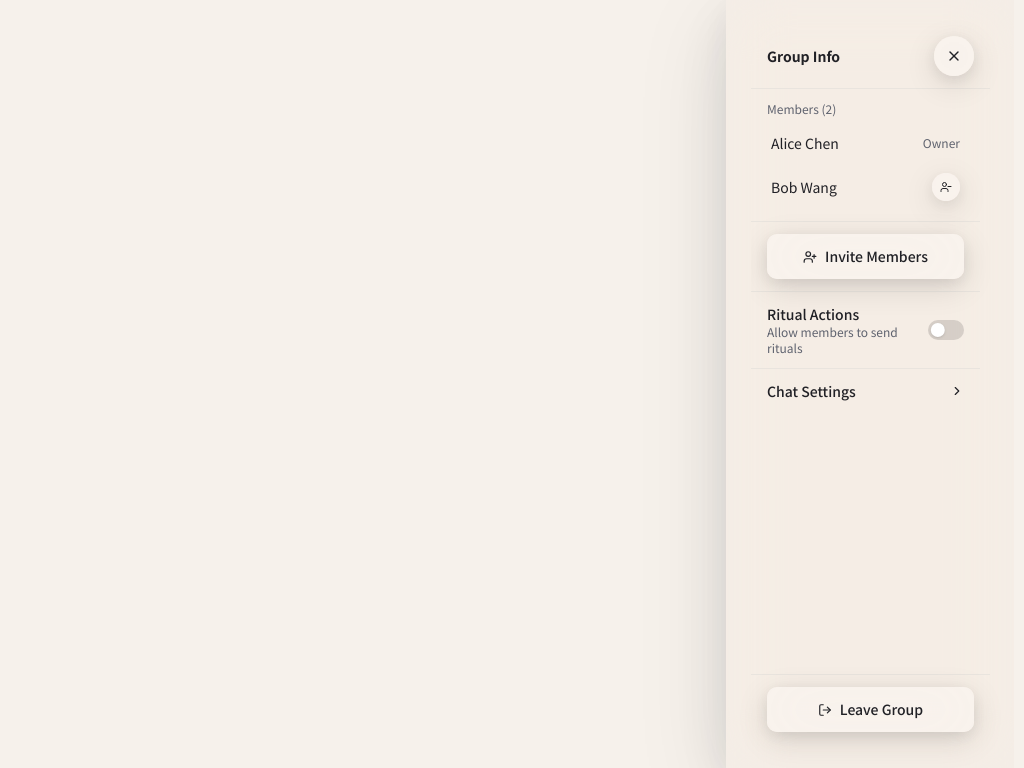
Test: TC-F-24: OWNER leaving shows successor selection dialog › shows a select dropdown for successor when OWNER clicks leave with other members
Note: Click "Leave Group"
What coordinates should you click on to do the following:
click the button with aria-label "leave this group"
I would click on:
 (870, 710)
Its box is [767,687,974,732].
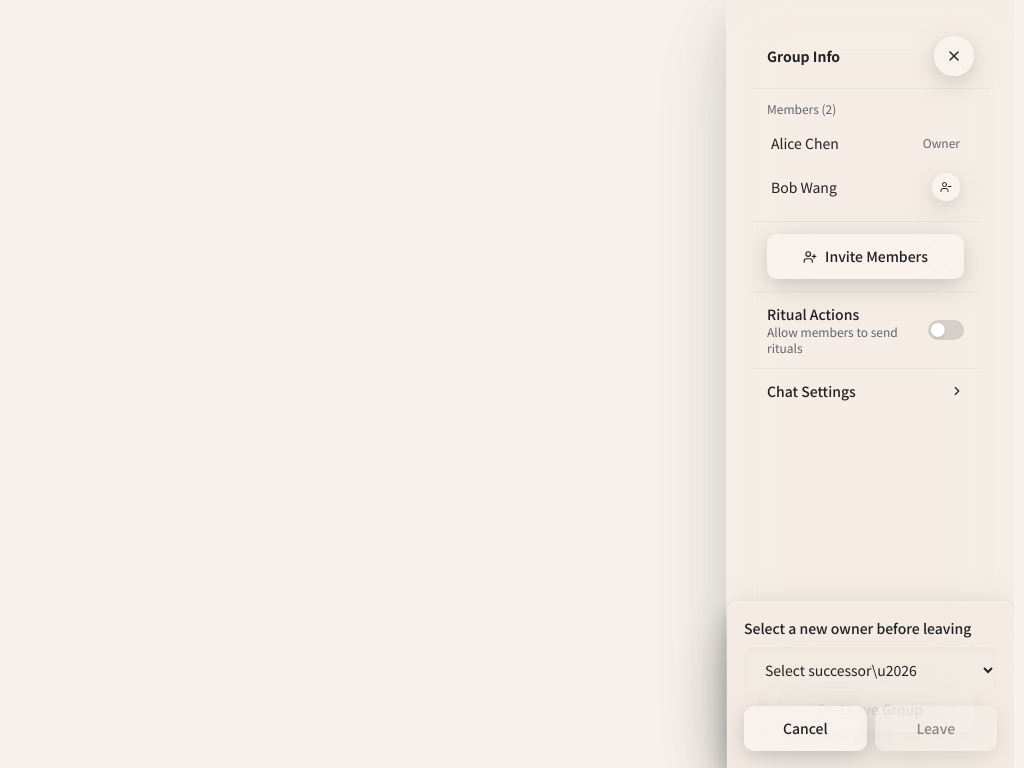
expect the text "Select a new owner before leaving" is shown: met, box [744,618,997,638]
expect the dropdown named "select new group owner" is shown: met, box [744,646,997,694]
